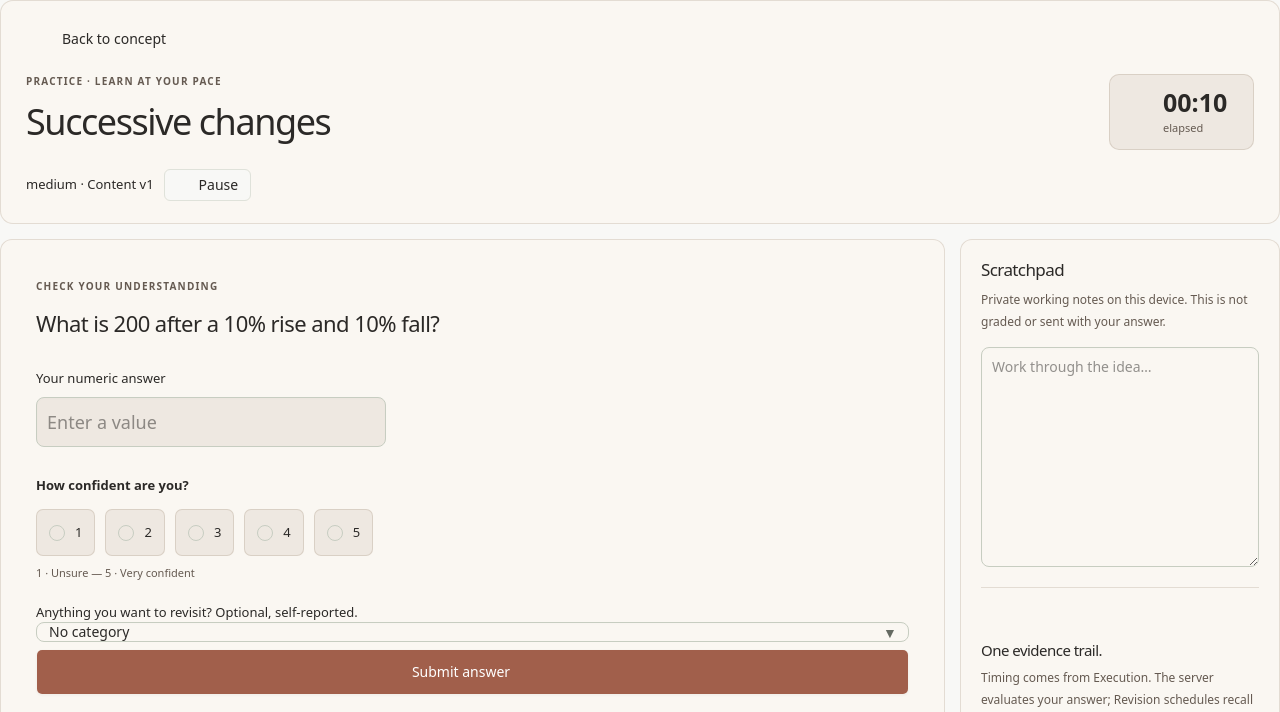
Test case: keeps an unsent numeric answer when the server cannot confirm save
Type "198" into the number field at (211, 422), box [36,398,386,448]
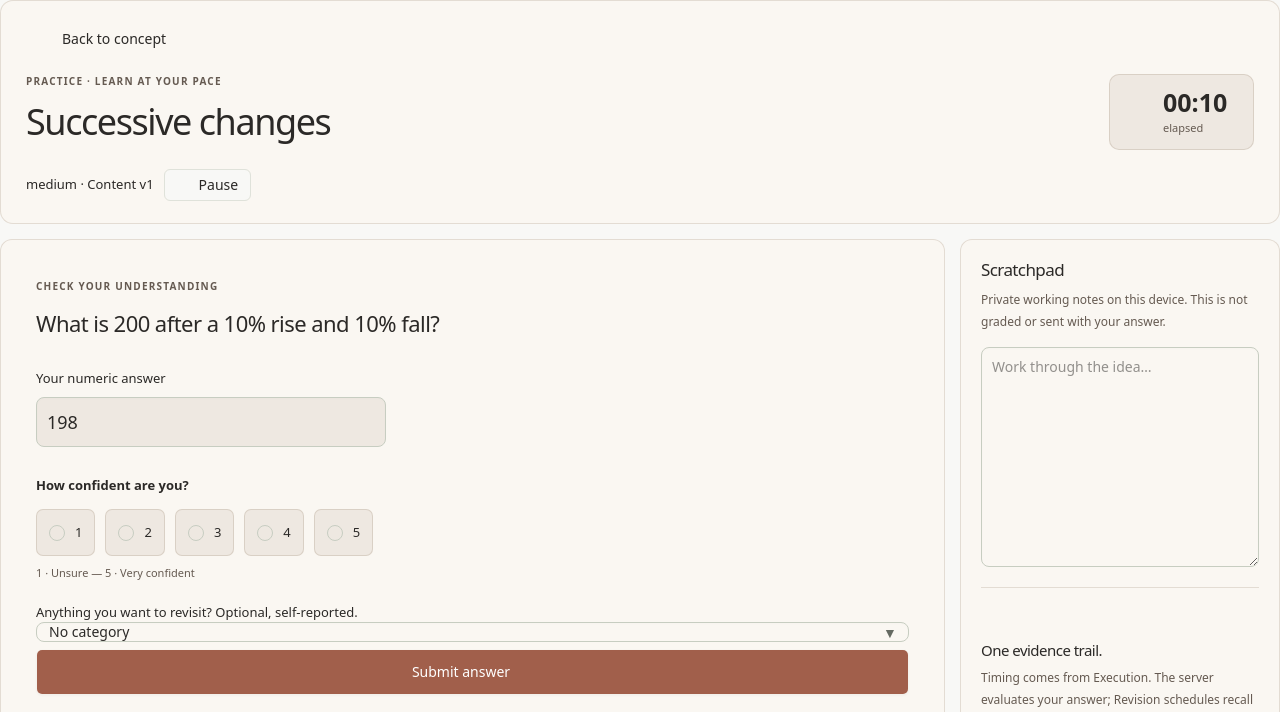
Click the 3rd radio button named "3" at (196, 533), box [188,525,204,541]
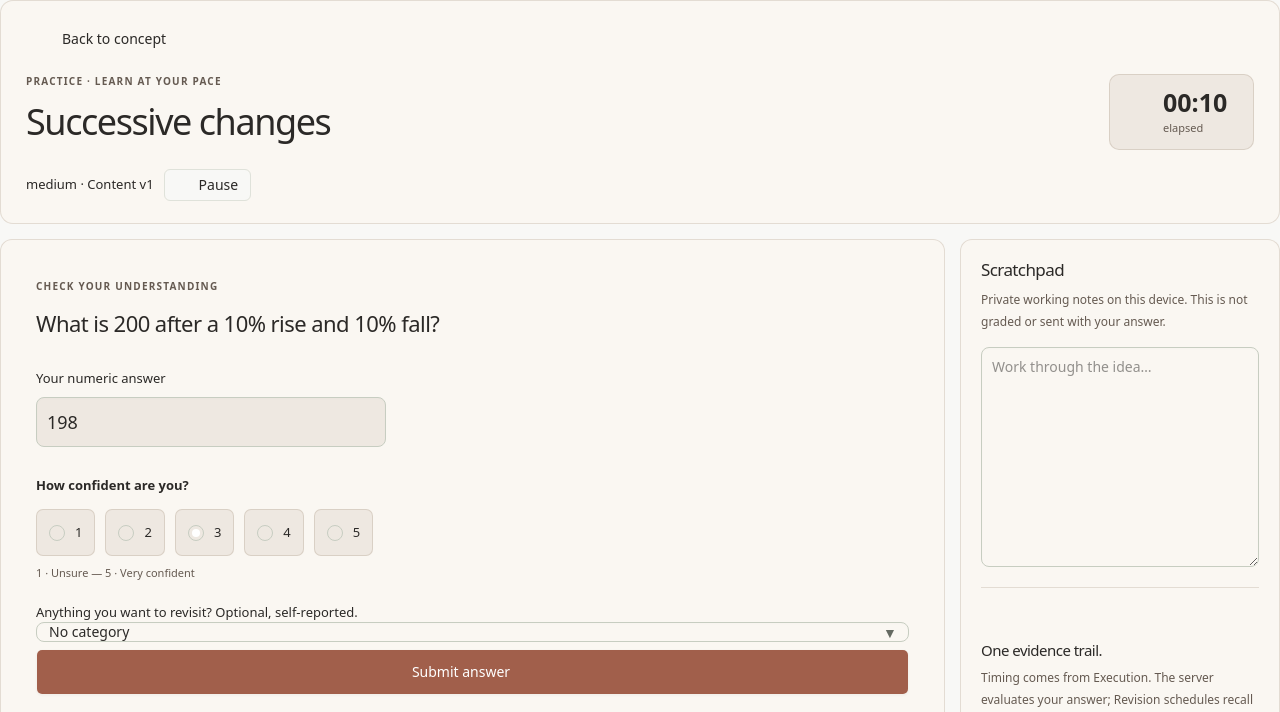
Click the button "Submit answer" at (472, 672), box [36,649,909,695]
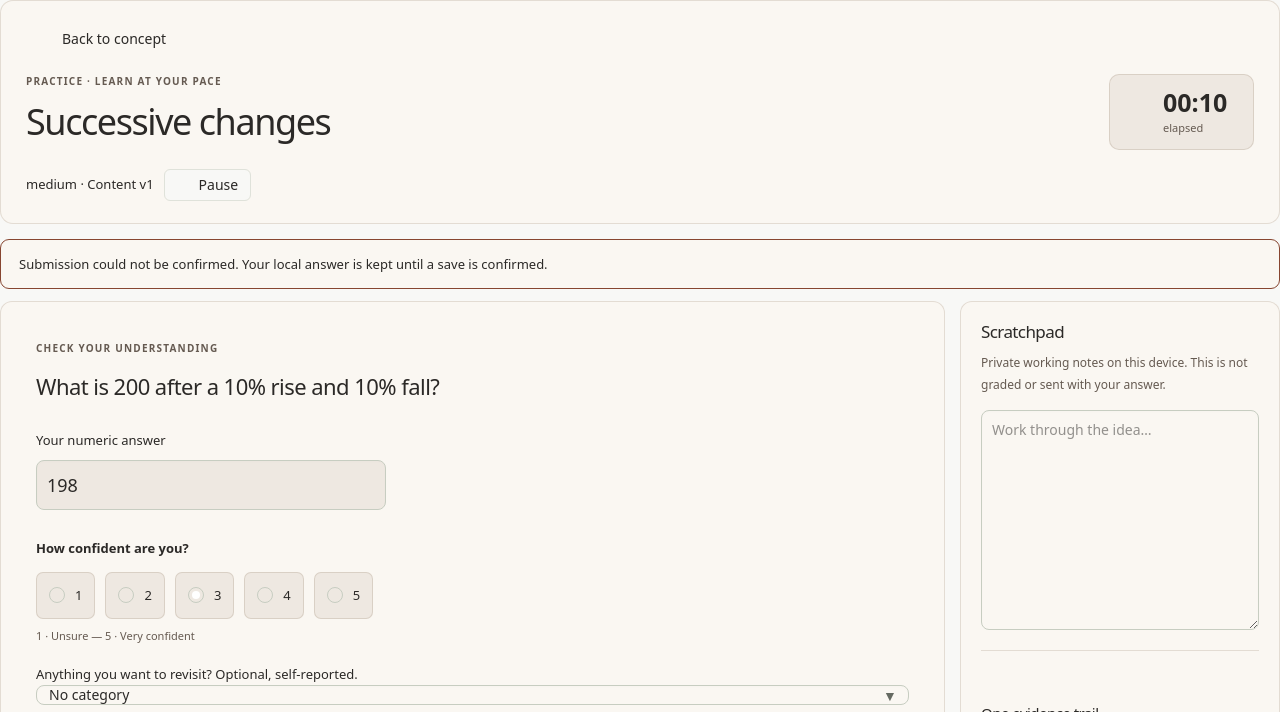
Now the message shows "Submission could not be confirmed", box [19,255,239,273]
